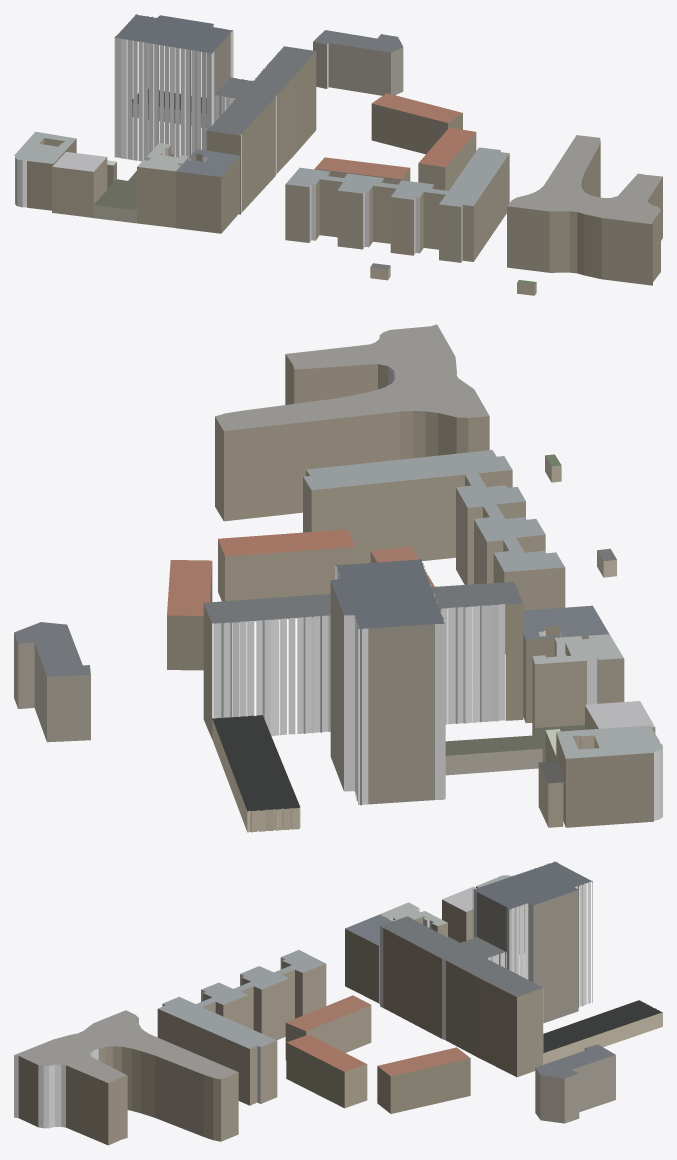
The picture shows the model from 3 angles, top to bottom: view 1: azimuth 30°, elevation 25°; view 2: azimuth 150°, elevation 25°; view 3: azimuth 270°, elevation 25°; orthographic projection. The views are drawn at different scales.
Visible parts, largest first — view 1: tuile; view 2: tuile; view 3: tuile.
Part boxes in pixels (bbox=[...]): tuile: bbox=[14, 14, 662, 295]; tuile: bbox=[14, 324, 662, 832]; tuile: bbox=[14, 861, 662, 1145].
Bounding box in the file's own units: 208 × 54.42 × 256.
